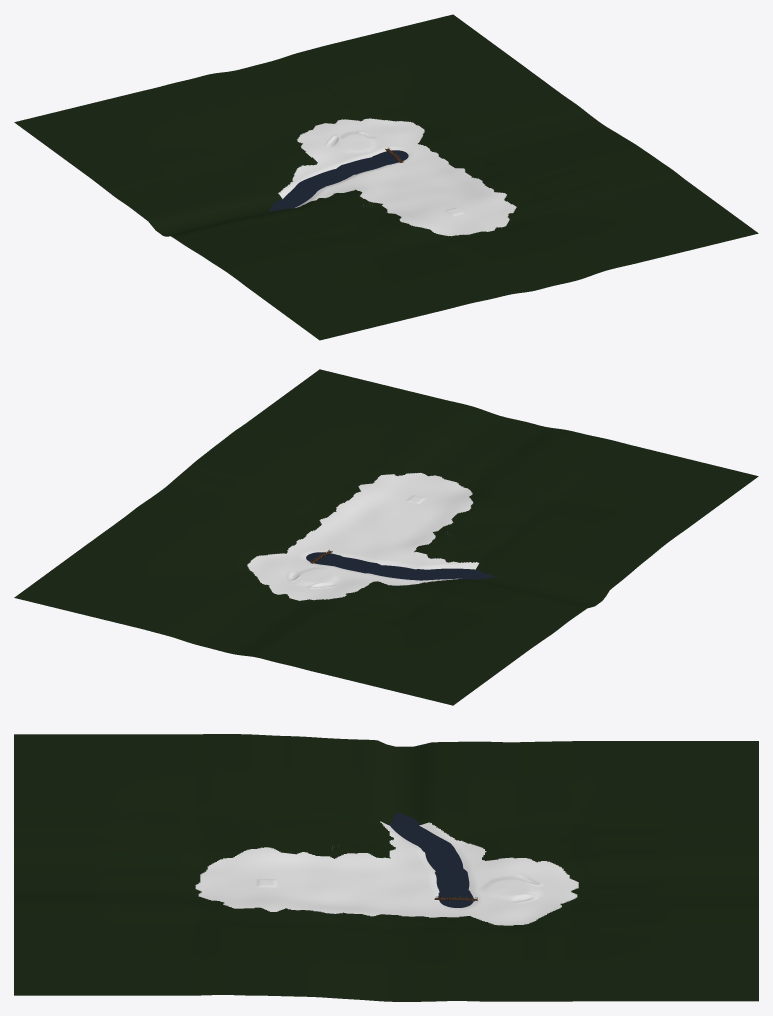
The model's file is hole.glb.
The picture shows the model from 3 angles, top to bottom: view 1: azimuth 30°, elevation 25°; view 2: azimuth 150°, elevation 25°; view 3: azimuth 270°, elevation 25°; orthographic projection. The views are drawn at different scales.
Visible parts, largest first — view 1: Skirt, Terrain, Water_0; view 2: Skirt, Terrain, Water_0; view 3: Skirt, Terrain, Water_0, Water_2, Water_3.
Part boxes in pixels (left/top/right/bottom): Skirt: left=14, top=14, right=758, bottom=340; Terrain: left=278, top=118, right=516, bottom=236; Water_0: left=269, top=175, right=326, bottom=211; Skirt: left=14, top=369, right=758, bottom=705; Terrain: left=247, top=472, right=479, bottom=600; Water_0: left=395, top=568, right=494, bottom=580; Skirt: left=14, top=734, right=758, bottom=1001; Terrain: left=195, top=821, right=578, bottom=925; Water_0: left=389, top=812, right=456, bottom=857; Water_2: left=435, top=864, right=469, bottom=891; Water_3: left=438, top=888, right=473, bottom=907.
Size of the model in its own units: 408 by 12.67 by 492.
